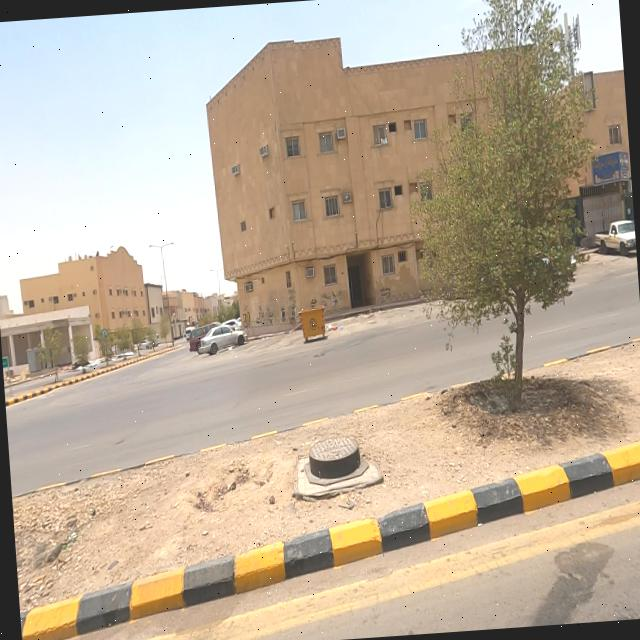Graffiti: (322, 290, 345, 310), (288, 286, 297, 320), (241, 305, 252, 328), (256, 305, 267, 328), (274, 308, 287, 325), (381, 285, 392, 298), (266, 311, 274, 326), (310, 300, 320, 308)
